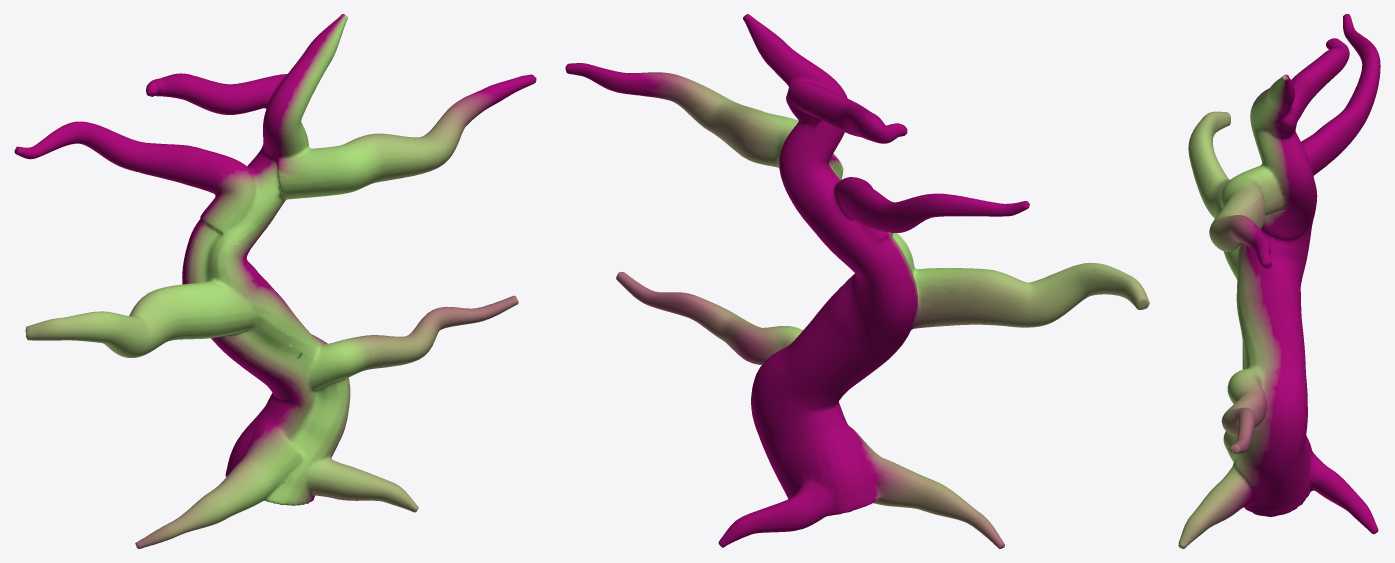
File: grip-v02.glb
The picture shows the model from 3 angles, left to right: view 1: azimuth 30°, elevation 25°; view 2: azimuth 150°, elevation 25°; view 3: azimuth 270°, elevation 25°; orthographic projection. The views are drawn at different scales.
Parts seen in each view (by area): view 1: Continuous aged trunk and primary branches; view 2: Continuous aged trunk and primary branches; view 3: Continuous aged trunk and primary branches.
Boxes of the visible parts, bbox=[...] form: Continuous aged trunk and primary branches: bbox=[14, 14, 536, 548]; Continuous aged trunk and primary branches: bbox=[565, 14, 1149, 548]; Continuous aged trunk and primary branches: bbox=[1178, 14, 1380, 548].
Size of the model in its own units: 1.97 by 1.66 by 0.6485.
